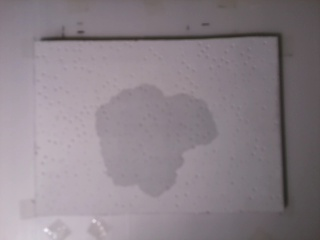Water_detected: (108, 101, 206, 186)
